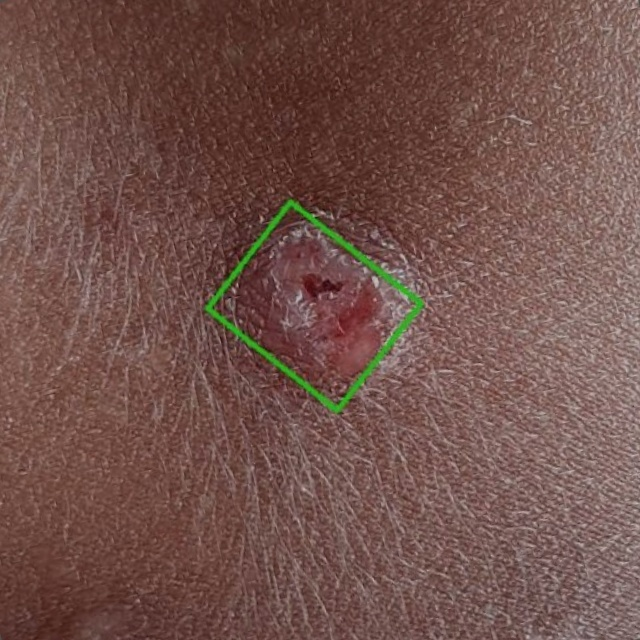Contact Dermatitis: (208, 201, 421, 409)
